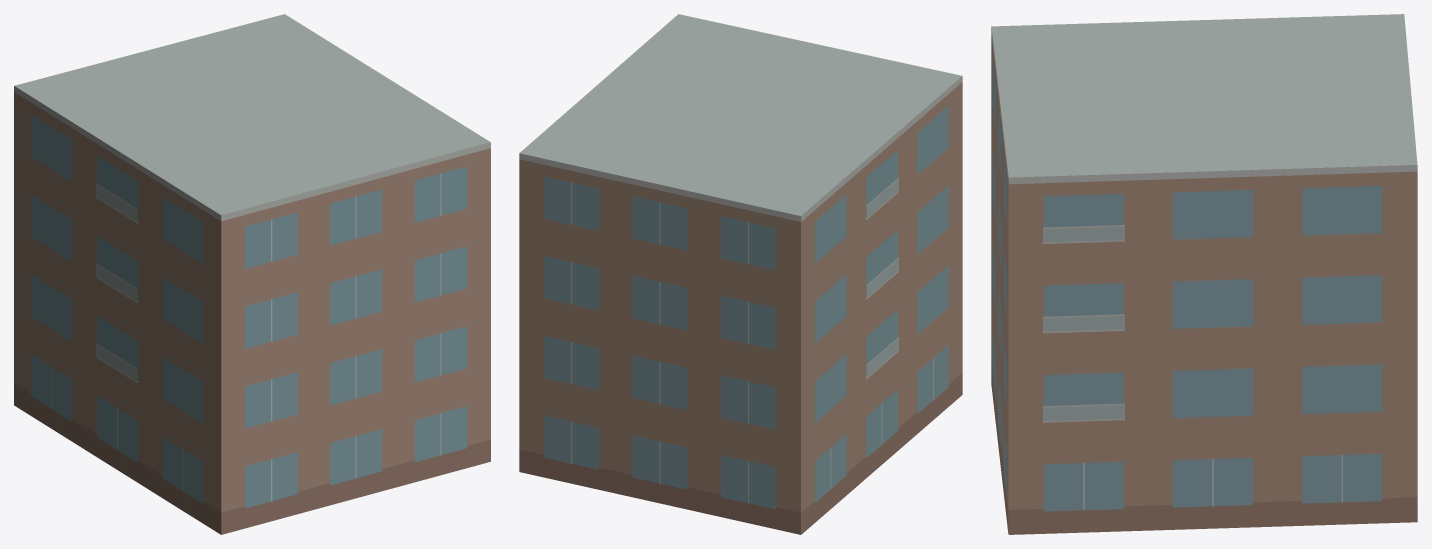
The model's file is survey-upis-32911539.glb.
The picture shows the model from 3 angles, left to right: view 1: azimuth 30°, elevation 25°; view 2: azimuth 150°, elevation 25°; view 3: azimuth 270°, elevation 25°; orthographic projection. The views are drawn at different scales.
Parts seen in each view (by area): view 1: survey-upis-32911539.tmp; view 2: survey-upis-32911539.tmp; view 3: survey-upis-32911539.tmp.
Part boxes in pixels (<box>): survey-upis-32911539.tmp: <box>14,14,490,534</box>; survey-upis-32911539.tmp: <box>519,14,962,534</box>; survey-upis-32911539.tmp: <box>991,14,1417,534</box>.
Bounding box in the file's own units: 12.88 × 13.1 × 14.17.
